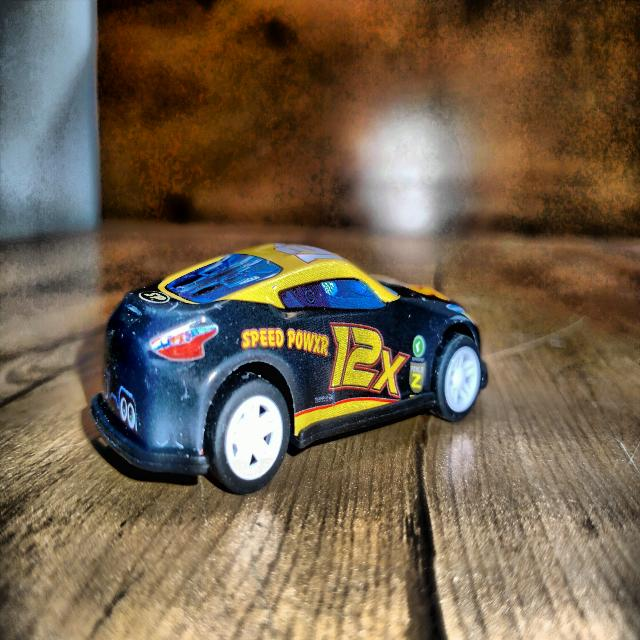Car: (91, 243, 486, 494)
